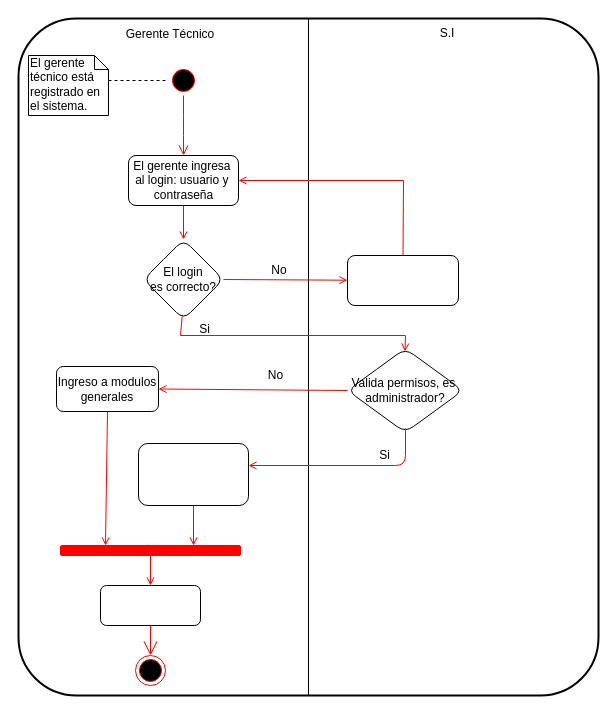
Image size: 616x714. Some labels were removed from this diagram. Each missing label, with the centre of its shape:
Configura partes y guarda cambios de las partes los vehículos: the point at 193,474
login, incorrecto.: the point at 402,280
Sale del sistema: the point at 150,605
